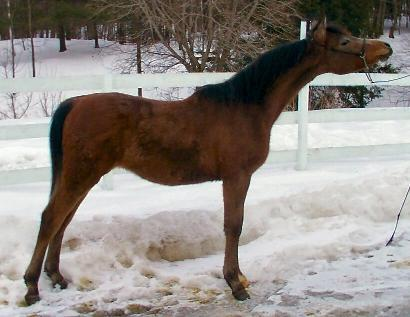horse: (22, 13, 392, 305)
